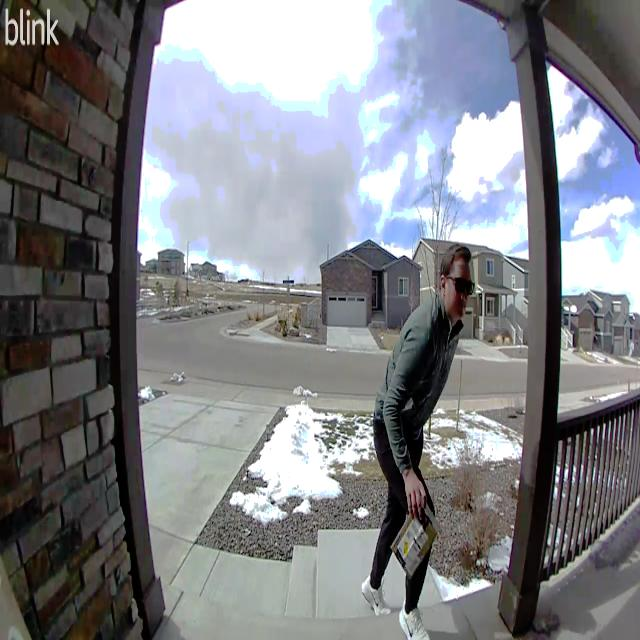Box: (392, 500, 441, 581)
